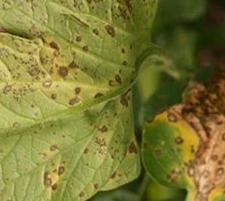Tomato Septoria leaf spot: (0, 0, 164, 201), (156, 75, 225, 201)
